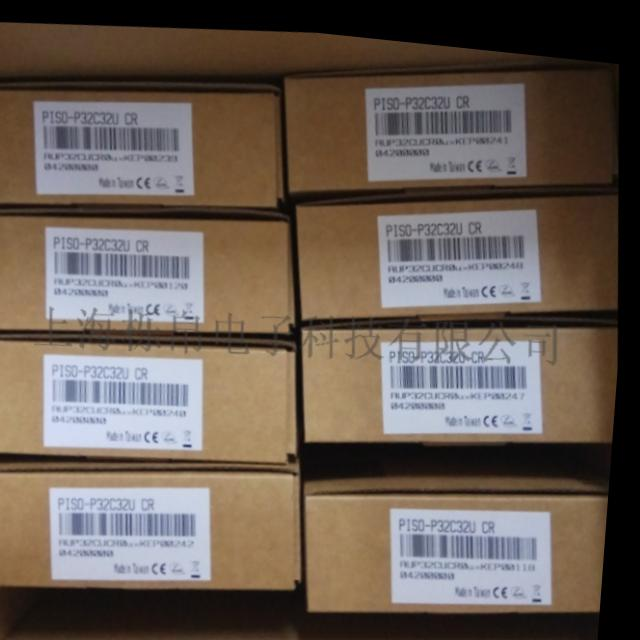box: (280, 51, 618, 188), (310, 458, 616, 604), (297, 178, 620, 315), (305, 310, 621, 433), (0, 459, 310, 583), (0, 79, 284, 209), (0, 211, 299, 333), (0, 334, 303, 454)
